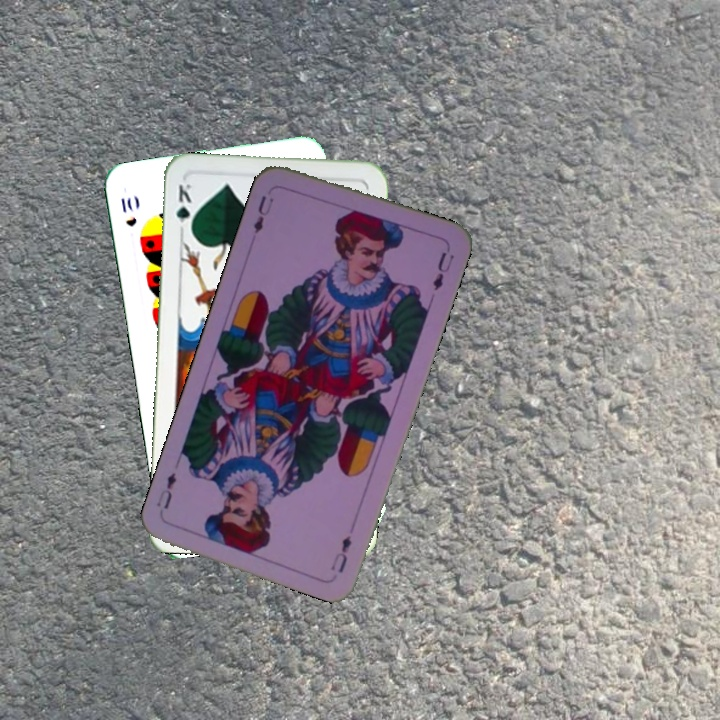EU: (249, 191, 276, 236), (327, 531, 354, 576)
GK: (171, 180, 195, 237)
S10: (117, 193, 139, 229)
